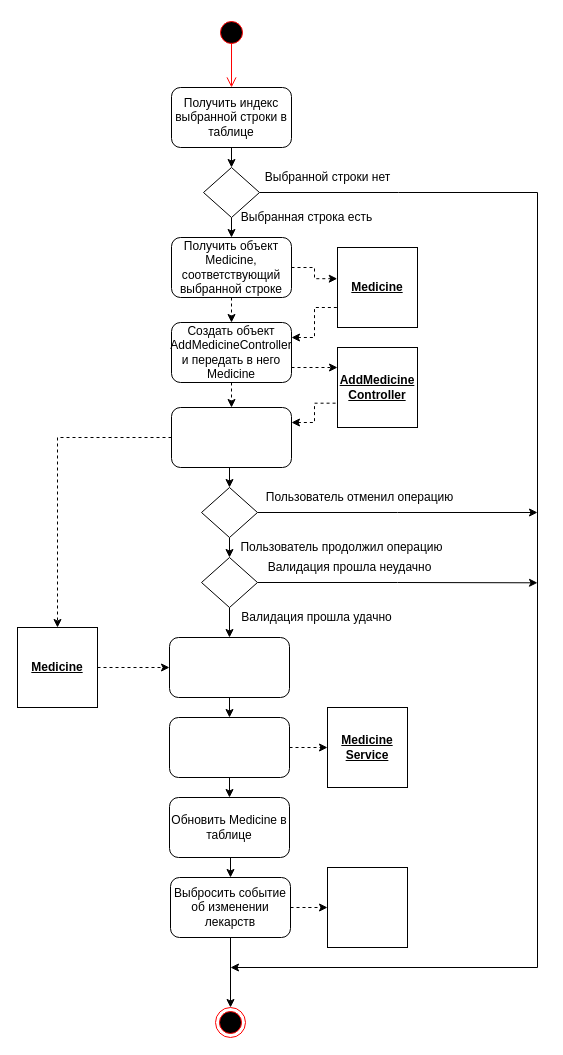
Image size: 563x1055. Some labels were removed from this diagram. The shapes that lost their labels are listed below. From the top down, each one's centre as x and y in pixels, then its label:
pixel 231 437: Открыть окно "Добавление/ редактирование лекарства"
pixel 229 667: Получить новый объект Medicine от AddMedicineController
pixel 229 747: Обновить Medicine в базе данных
pixel 367 907: EventSource
